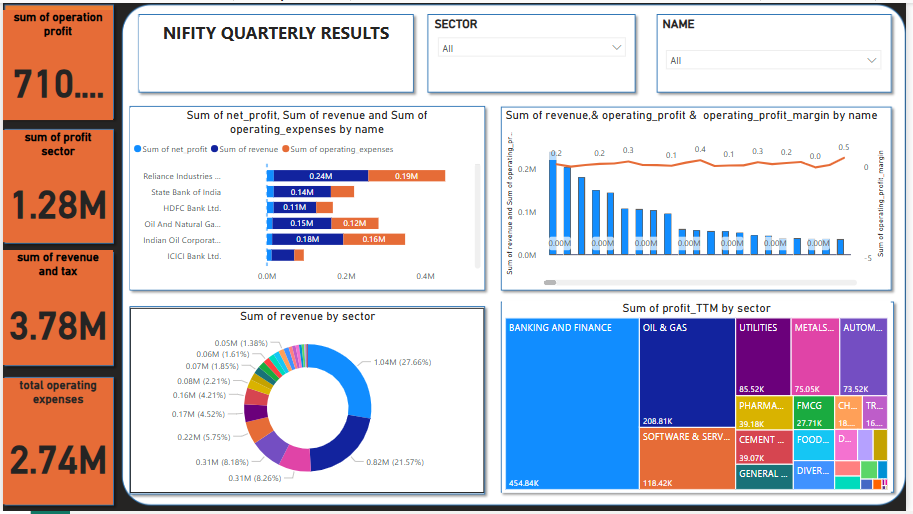

Layout of this report page (visuals, bound fields, positions):
{"tool":"powerbi","page":{"name":"Page 2","canvas":[1280,720],"ordinal":0},"visuals":[{"type":"card","title":"sum of operation profit","fields":{"Values":["Sum(nifty_500_quarterly_results.operating_profit)"]},"box":[0,9.9,155.9,155.9],"z":0},{"type":"card","title":"sum of profit sector","fields":{"Values":["Sum(nifty_500_quarterly_results.profit_TTM)"]},"box":[0,180,155.9,158.7],"z":1000},{"type":"card","title":"sum of revenue and tax ","fields":{"Values":["Sum(nifty_500_quarterly_results.revenue)"]},"box":[0,350.1,155.9,163],"z":2000},{"type":"card","title":"total  operating expenses","fields":{"Values":["Sum(nifty_500_quarterly_results.operating_expenses)"]},"box":[0,531.5,155.9,178.6],"z":3000},{"type":"slicer","title":"SECTOR","fields":{"Values":["nifty_500_quarterly_results.sector"]},"box":[606.6,19.8,286.3,103.5],"z":4000},{"type":"slicer","title":"NAME","fields":{"Values":["nifty_500_quarterly_results.name","nifty_500_quarterly_results.net_profit"]},"box":[929.8,19.8,324.6,103.5],"z":5000},{"type":"textbox","box":[192.8,19.8,388.3,103.5],"z":6000},{"type":"barChart","fields":{"Y":["Sum(nifty_500_quarterly_results.net_profit)","Sum(nifty_500_quarterly_results.revenue)","Sum(nifty_500_quarterly_results.operating_expenses)"],"Category":["nifty_500_quarterly_results.name"]},"box":[180,148.8,501.7,256.5],"z":7000},{"type":"pieChart","fields":{"Category":["nifty_500_quarterly_results.sector"],"Y":["Sum(nifty_500_quarterly_results.revenue)"]},"box":[180,432.3,501.7,262.2],"z":8000},{"type":"treemap","fields":{"Group":["nifty_500_quarterly_results.sector"],"Values":["Sum(nifty_500_quarterly_results.profit_TTM)"]},"box":[707.2,422.4,551.3,272.1],"z":9000},{"type":"lineClusteredColumnComboChart","title":"Sum of revenue,& operating_profit &  operating_profit_margin by name","fields":{"Category":["nifty_500_quarterly_results.name"],"Y":["Sum(nifty_500_quarterly_results.revenue)","Sum(nifty_500_quarterly_results.operating_profit_margin)"],"Y2":["Sum(nifty_500_quarterly_results.operating_profit_margin)"]},"box":[707.2,148.8,547.1,256.5],"z":10000}]}

Visuals, with their boxes in screenshot pixels (x1, y1, x2, y2), scaled from the page's 1280x720 canvas onto the 913x514 screenshot:
"sum of operation profit" card: left=0, top=7, right=111, bottom=118
"sum of profit sector" card: left=0, top=128, right=111, bottom=242
"sum of revenue and tax " card: left=0, top=250, right=111, bottom=366
"total  operating expenses" card: left=0, top=379, right=111, bottom=507
"SECTOR" slicer: left=433, top=14, right=637, bottom=88
"NAME" slicer: left=663, top=14, right=895, bottom=88
textbox: left=138, top=14, right=414, bottom=88
barChart - Sum(nifty_500_quarterly_results.net_profit) x Sum(nifty_500_quarterly_results.revenue): left=128, top=106, right=486, bottom=289
pieChart - nifty_500_quarterly_results.sector x Sum(nifty_500_quarterly_results.revenue): left=128, top=309, right=486, bottom=496
treemap - nifty_500_quarterly_results.sector x Sum(nifty_500_quarterly_results.profit_TTM): left=504, top=302, right=898, bottom=496
"Sum of revenue,& operating_profit &  operating_profit_margin by name" lineClusteredColumnComboChart: left=504, top=106, right=895, bottom=289
